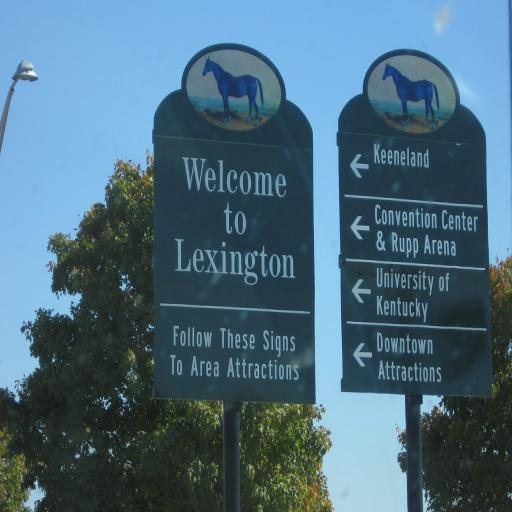horse: (202, 55, 264, 127), (382, 63, 440, 129)
